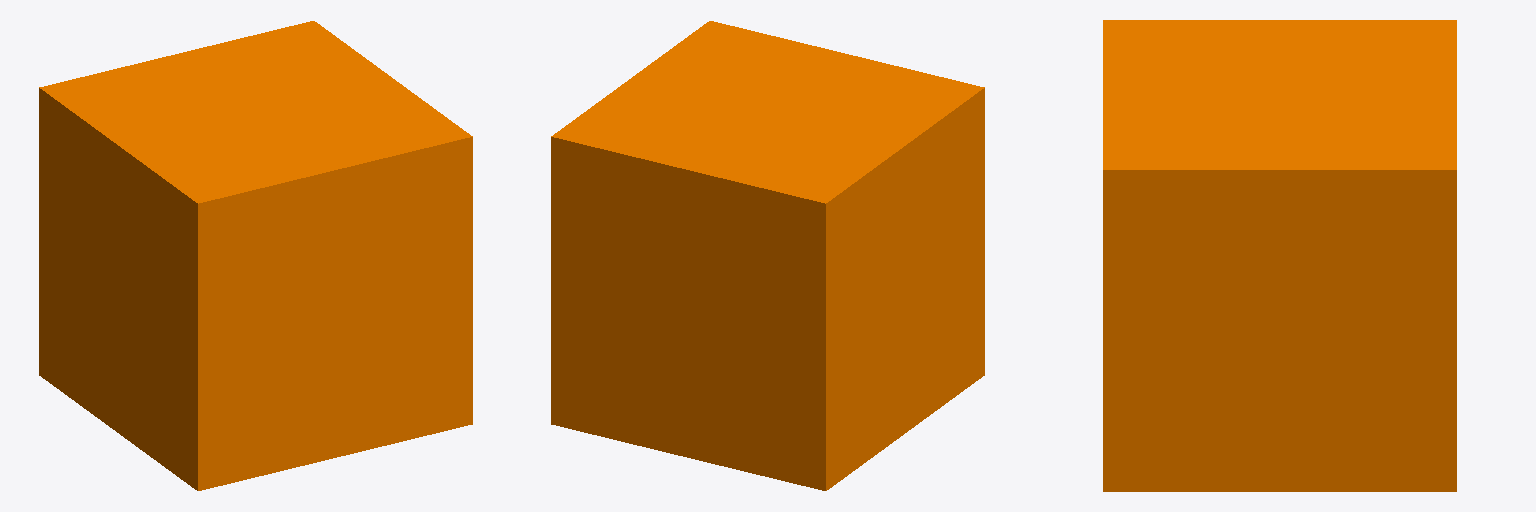
URDF robot description (square_obstacle):
<?xml version="0.0" ?>
<robot name="square_obstacle">
  <link name="base_link">
    <inertial>
      <origin rpy="0 0 0" xyz="0 0 0"/>
       <mass value=".1"/>
       <inertia ixx="1" ixy="0" ixz="0" iyy="1" iyz="0" izz="1"/>
    </inertial>
    
    <visual>
      <origin rpy="0 0 0" xyz="0 0 0"/>
      <geometry>
        <box size="0.2 0.2 0.2"/>
      </geometry>
      <material name="darkorange">
        <color rgba="1.0 0.549 0.0 0.8"/>
      </material>
    </visual>
  </link>
</robot>

--- What the picture shows (computed from the rendered views, not written in the file) ---
The picture shows the robot from 3 angles, left to right: view 1: azimuth 30°, elevation 25°; view 2: azimuth 150°, elevation 25°; view 3: azimuth 270°, elevation 25°; orthographic projection.
Model square_obstacle with 1 links and 0 joints (none), rooted at base_link, posed all joints at 0.
Links seen in each view (by area): view 1: base_link; view 2: base_link; view 3: base_link.
Boxes of the visible links, bbox=[...] form: base_link: bbox=[39, 21, 472, 490]; base_link: bbox=[551, 21, 984, 490]; base_link: bbox=[1103, 20, 1456, 491].
Size in the robot's own frame: 0.2 by 0.2 by 0.2 metres.
Geometry: primitives only (box / cylinder / sphere), no mesh files.